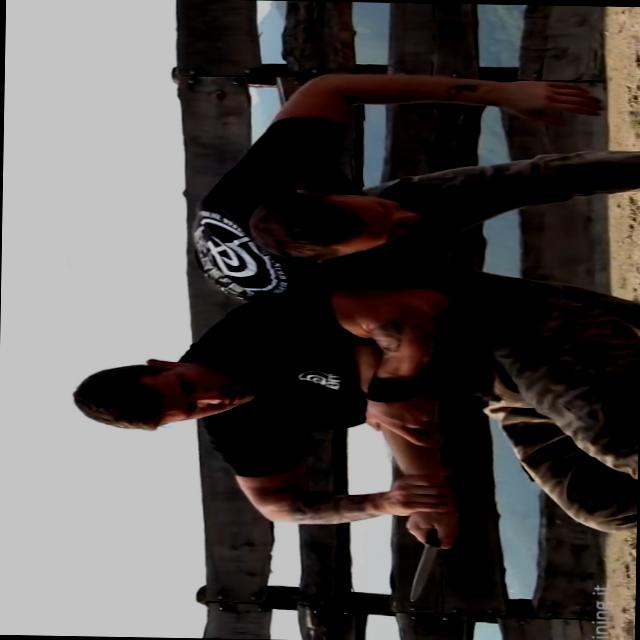knife: (396, 515, 468, 606)
